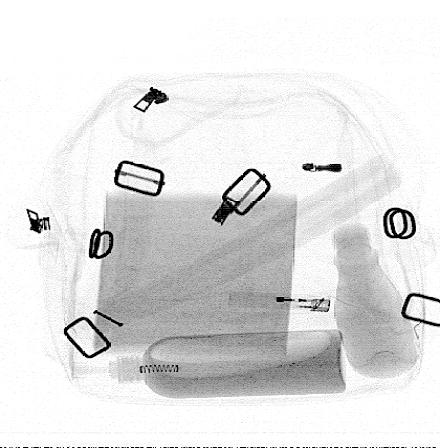Lighter: (229, 290, 331, 314)
